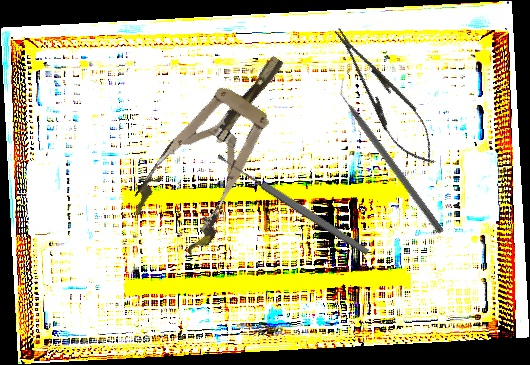Chopper: (330, 75, 453, 236)
Needle Holder: (321, 17, 448, 176)
Speculum: (124, 35, 317, 260)
Surgical Spoon: (215, 151, 371, 257)
